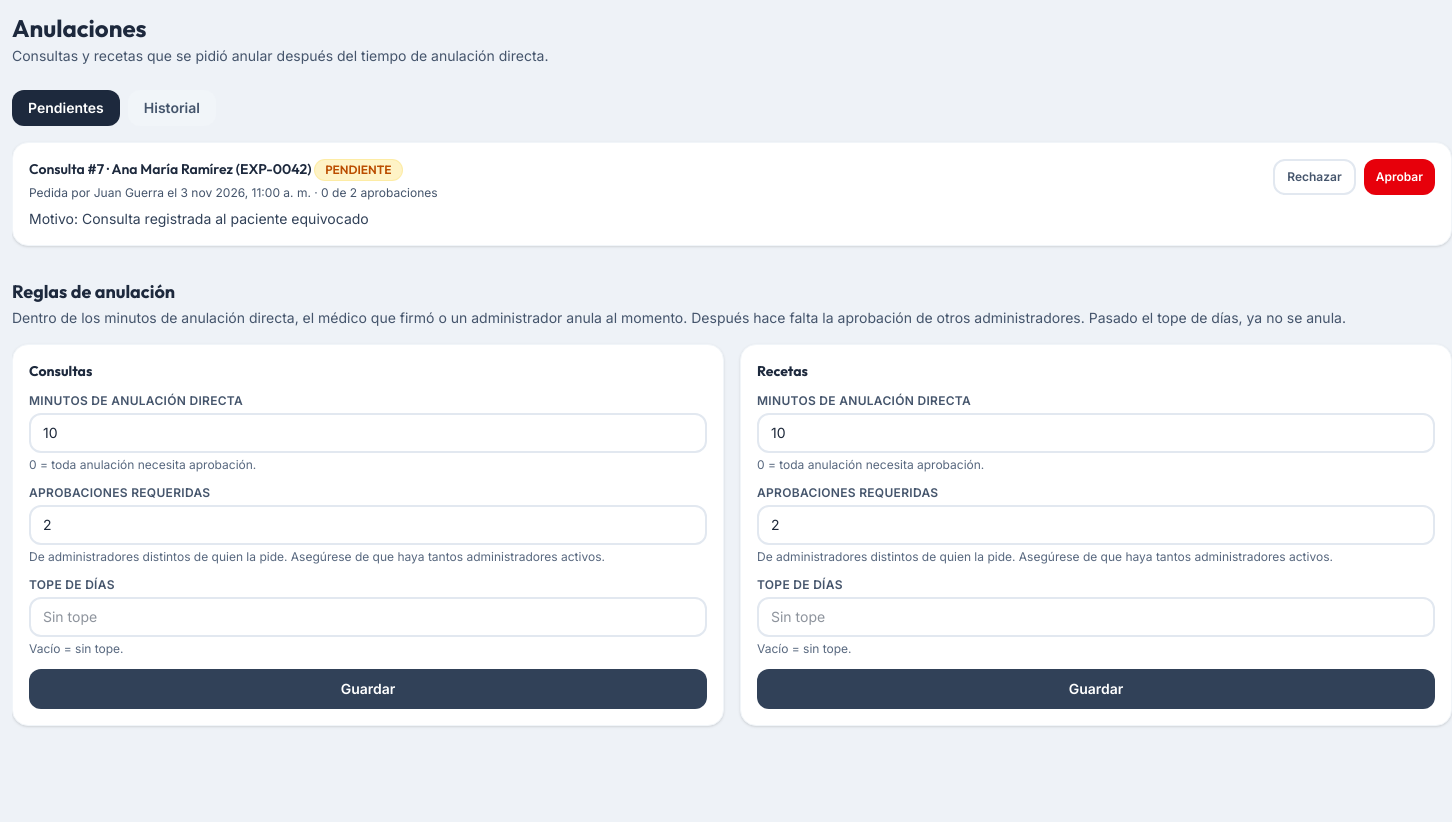
Test: anulaciones · solicitudes › con la primera de dos aprobaciones sigue en la lista; con la última sale
What coordinates should you click on to do the following:
click the button with aria-label "Aprobar la anulación 4"
I would click on:
 (1399, 177)
Its box is [1364,159,1435,195].
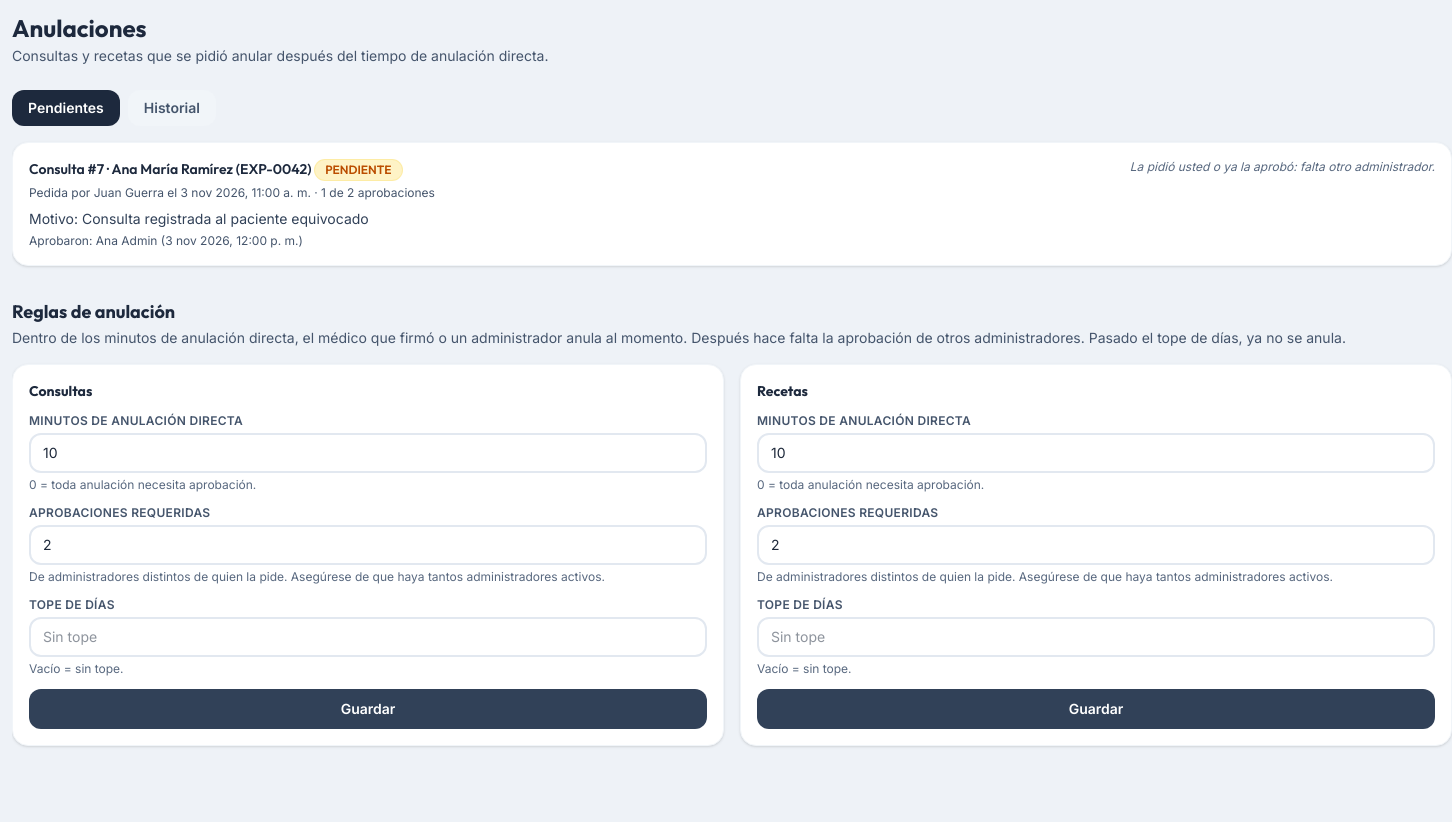
Now the text "1 de 2 aprobaciones" is shown, box [321,185,435,200]
Now the text "La pidió usted o ya la aprobó: falta otro administrador." is shown, box [1130,159,1435,175]
